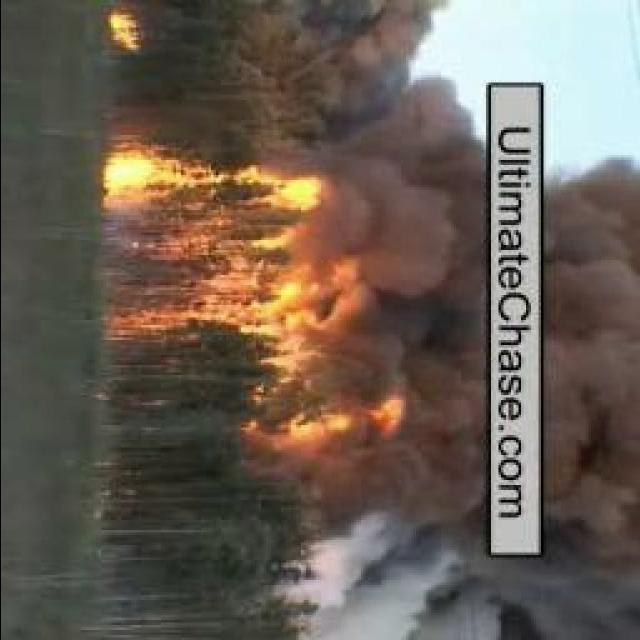Fire: (100, 149, 340, 343), (238, 385, 416, 453), (108, 8, 142, 47)
